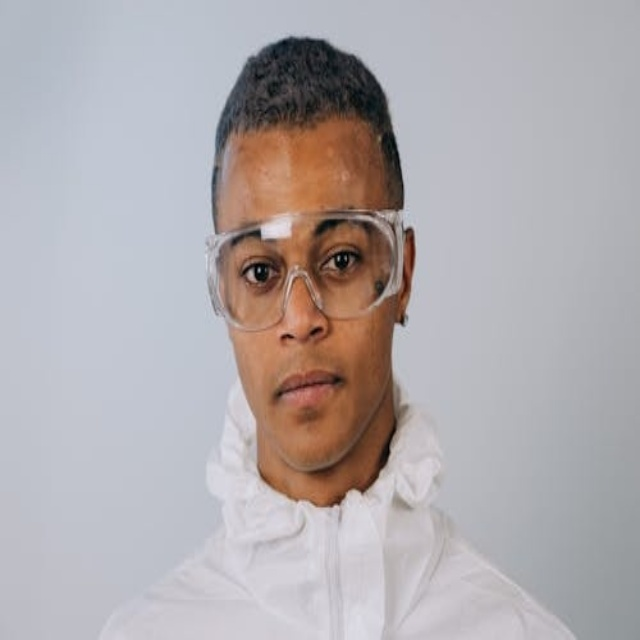Gafas: (205, 208, 406, 329)
Sin_mascara: (256, 365, 364, 461)
